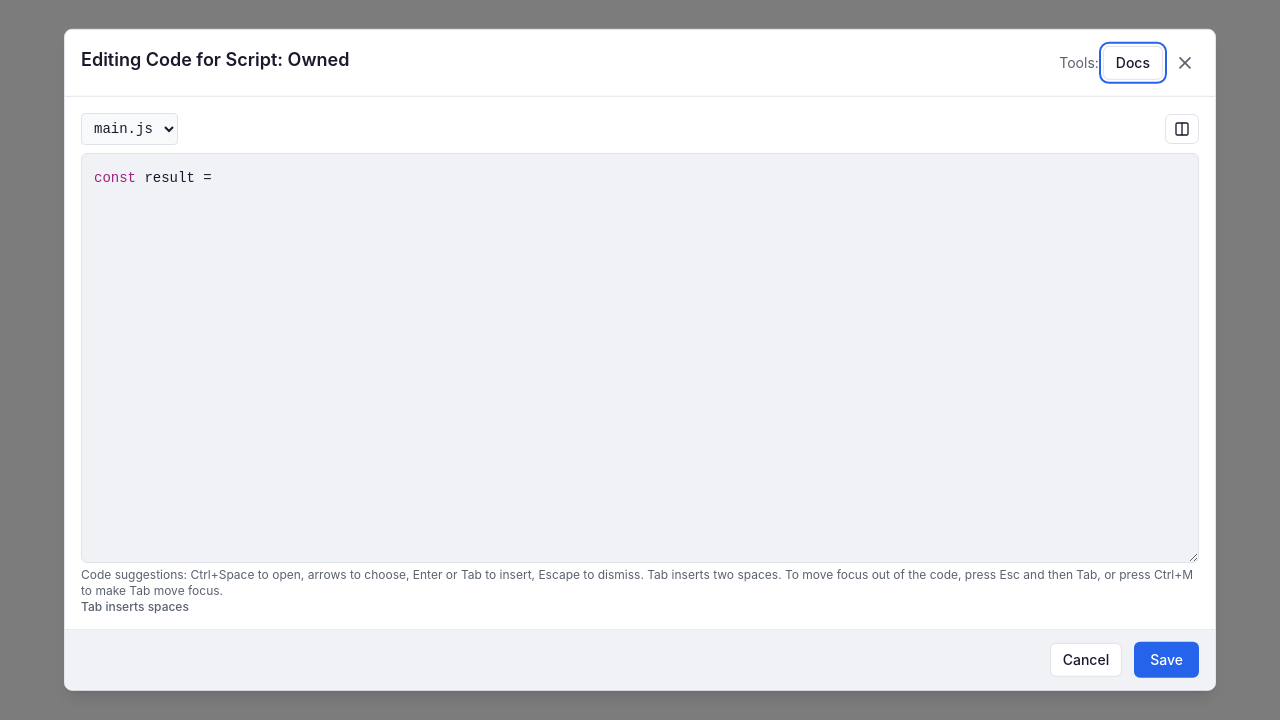
Scenario: ScriptEditorDialog › completes QQQ API methods in the existing script editor and leaves other text intact
Click the text box named "main.js": (640, 358) [82,154,1198,562]
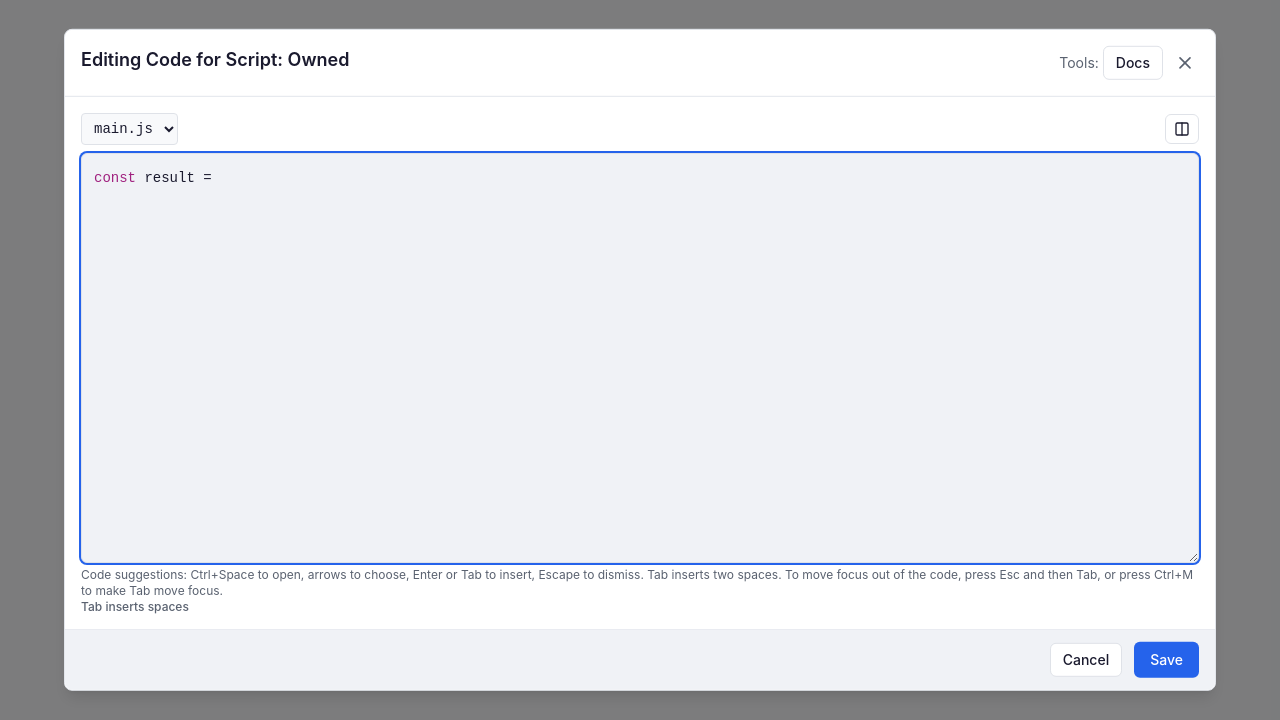
Press End
In the text box named "main.js": (640, 358) [82,154,1198,562], type "api.bu"
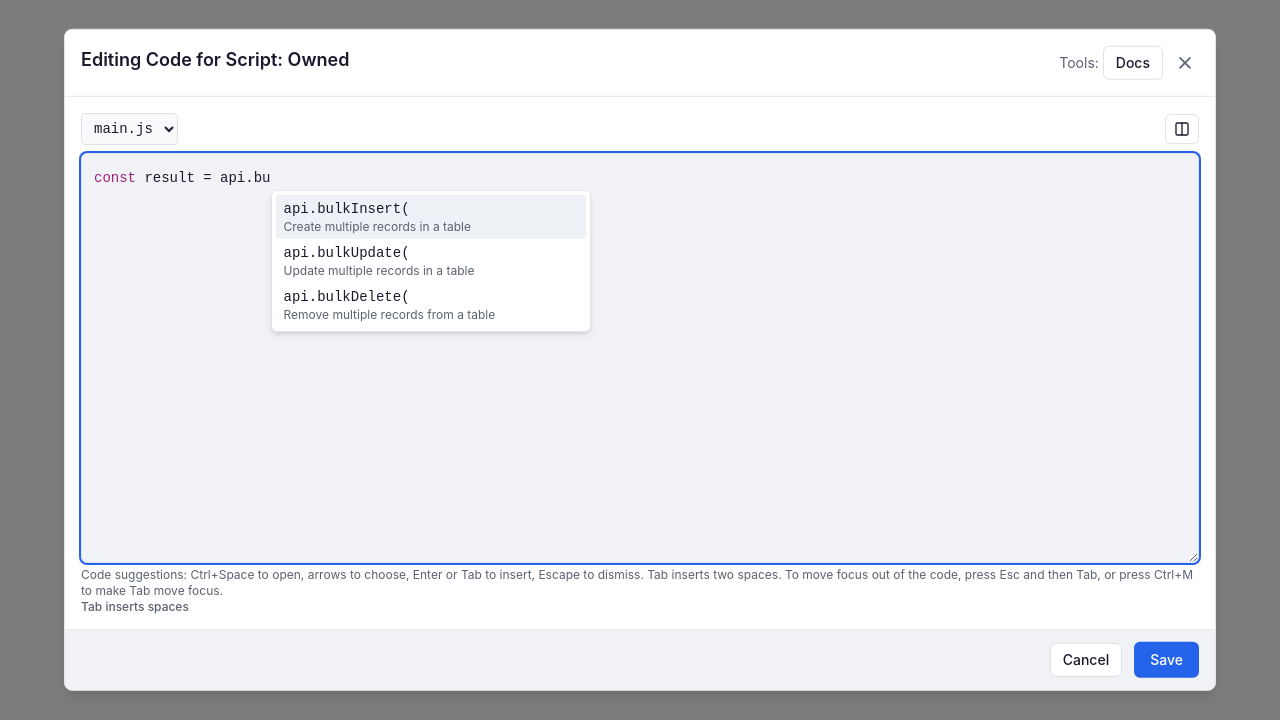
Expected: the list named "Code suggestions" is shown, [270,190,590,332]
Expected: the option "api.bulkInsert( Create multiple records in a table" is shown, [276,195,586,239]
Press Enter
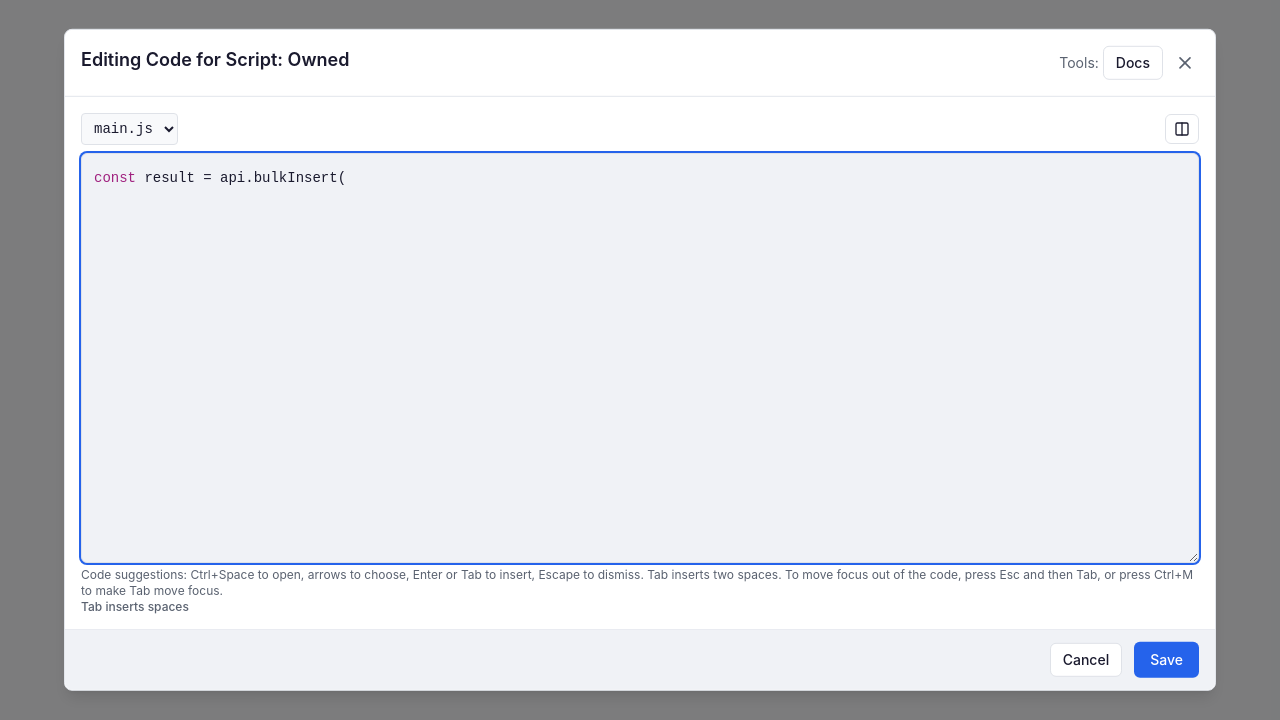
Expected: the text box named "main.js" holds "const result = api.bulkInsert(", [82,154,1198,562]
Expected: the list is gone
